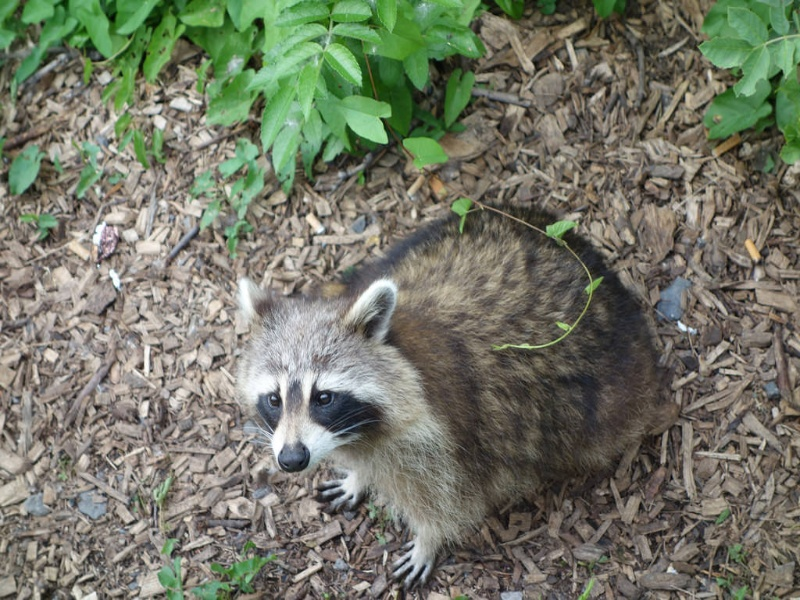raccoon: (229, 197, 683, 588)
